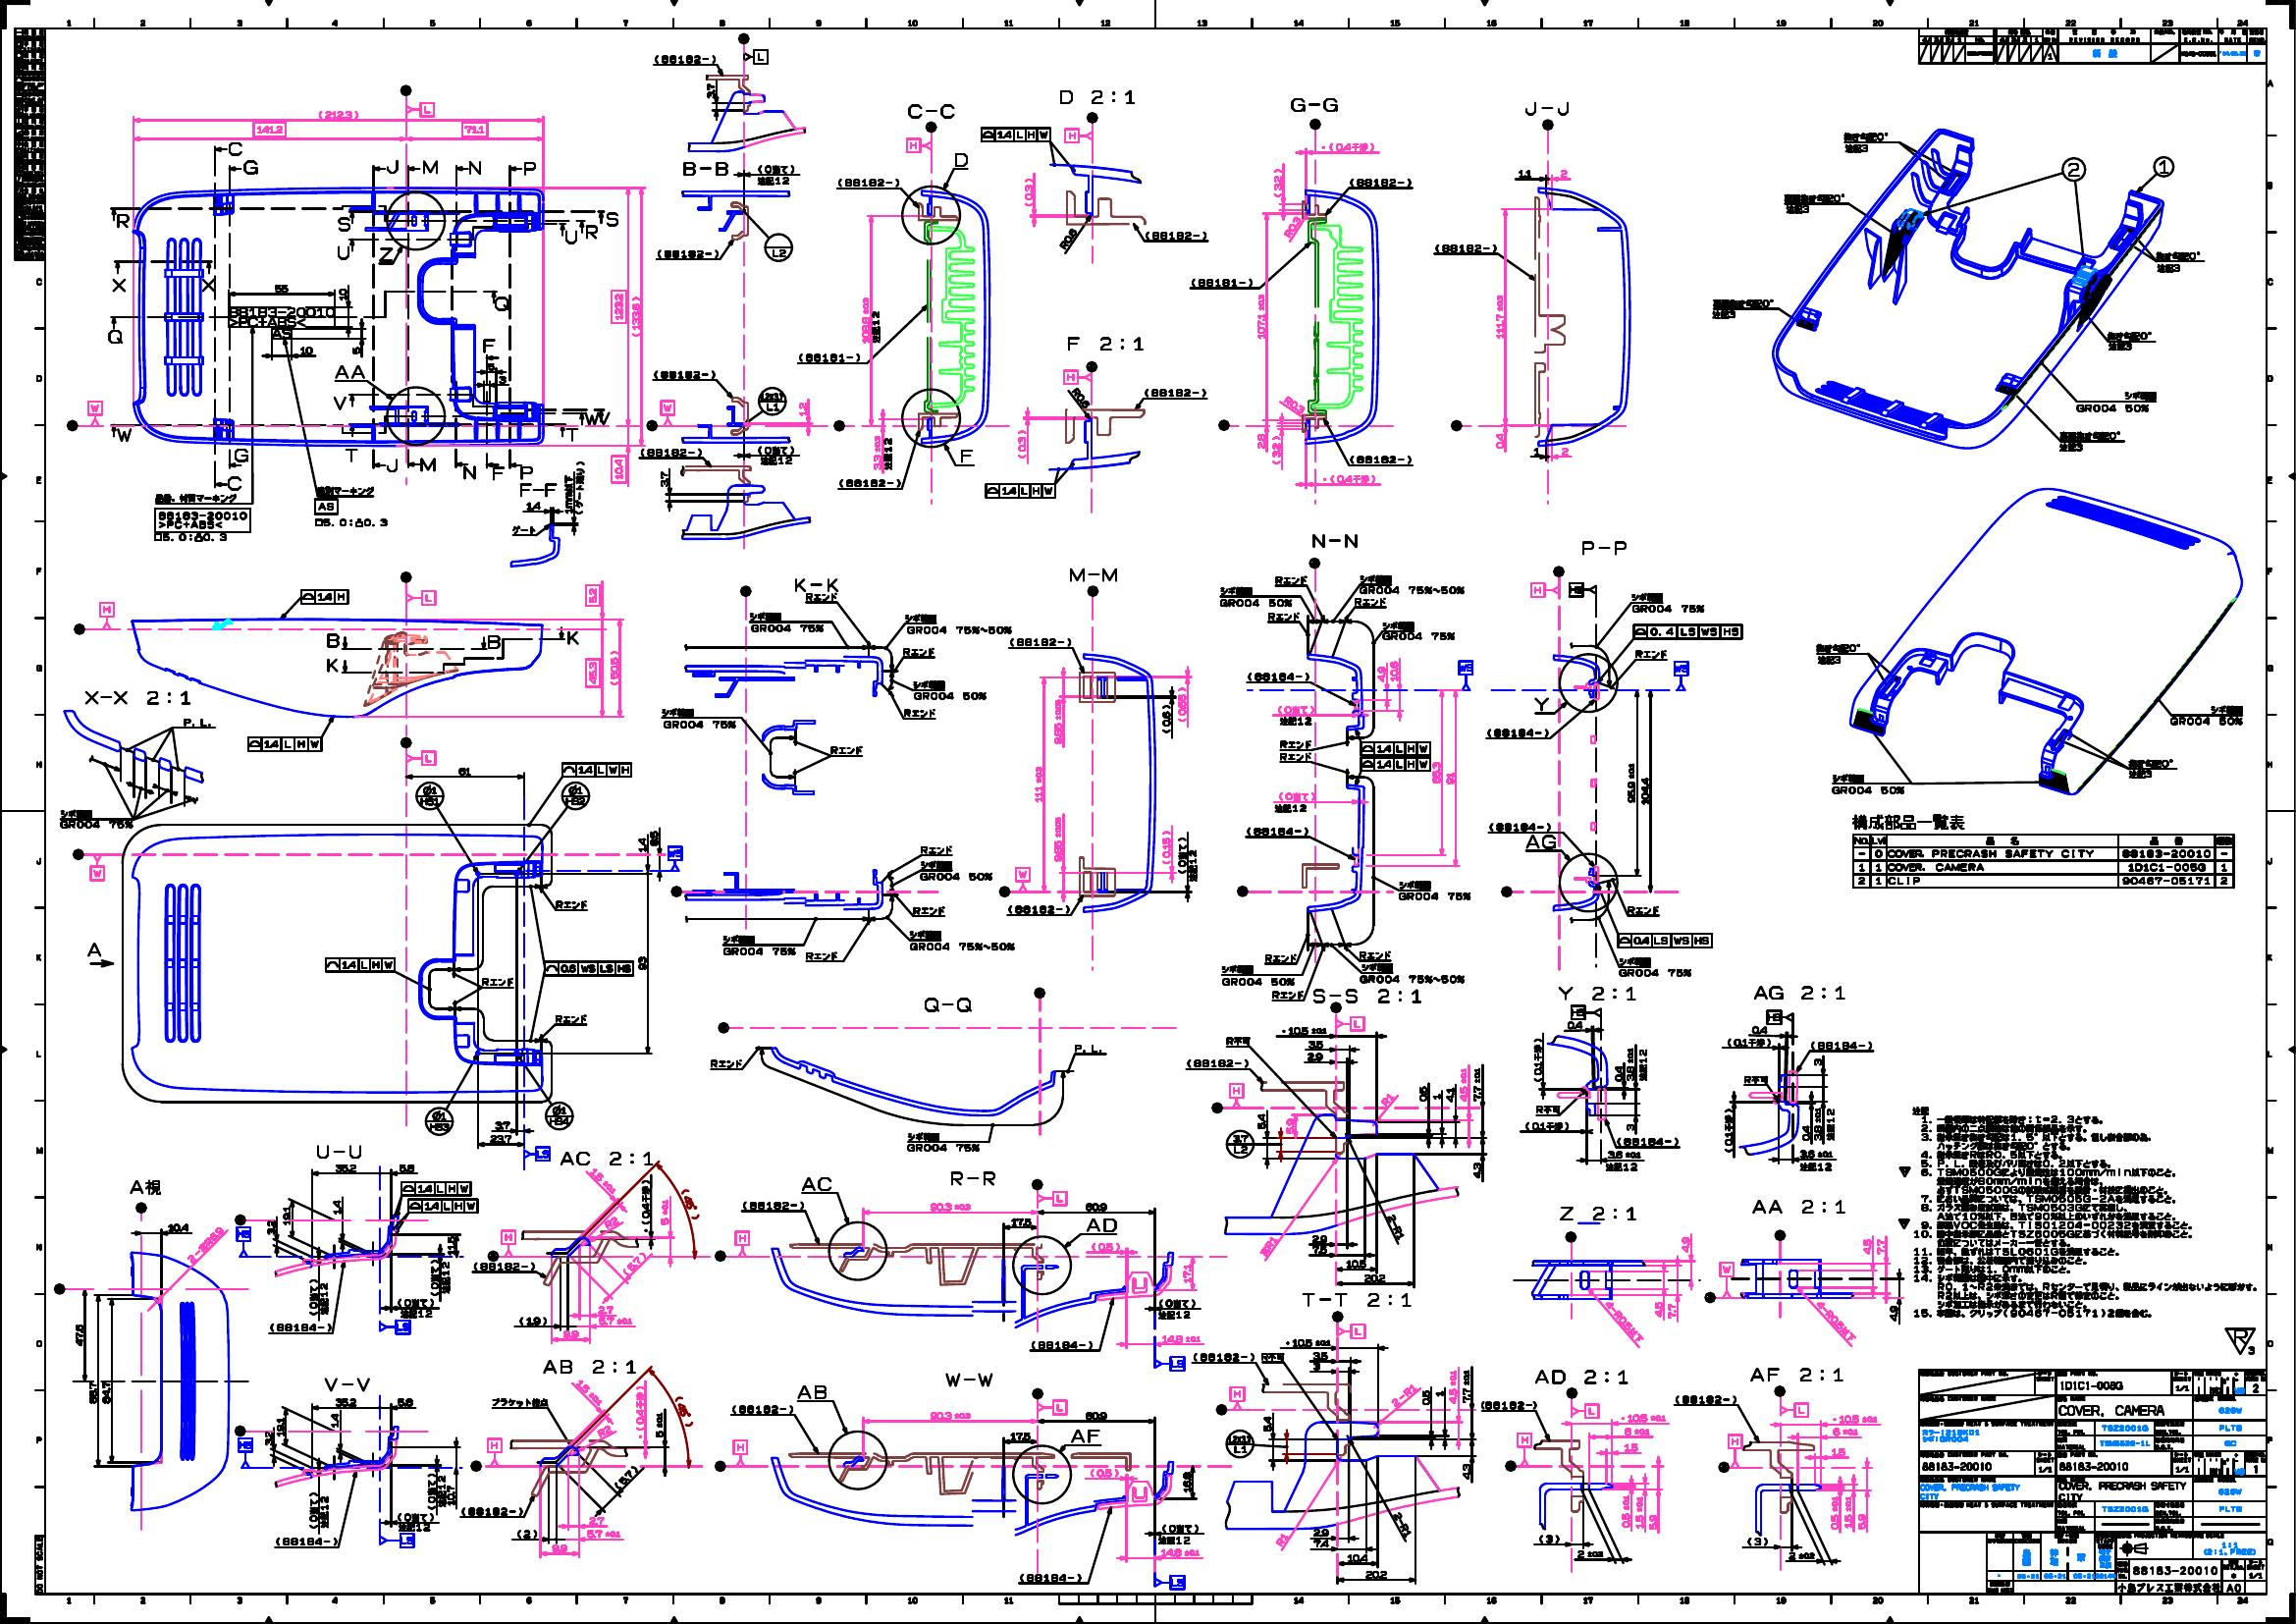anntotation_text: (1897, 1102, 2261, 1323), (1852, 814, 2235, 888), (153, 492, 251, 543), (314, 485, 388, 529), (1356, 573, 1465, 596), (908, 928, 1015, 951), (1360, 961, 1465, 984), (905, 613, 1012, 634), (1312, 984, 1421, 1004), (1830, 772, 1904, 798), (2075, 390, 2159, 413), (1750, 982, 1848, 1002), (83, 689, 190, 707), (720, 933, 796, 958), (1300, 1292, 1412, 1308), (661, 707, 736, 729), (2168, 705, 2243, 728), (1616, 932, 1713, 949), (557, 1149, 653, 1167), (1750, 1199, 1846, 1216), (919, 859, 993, 882), (1219, 585, 1293, 608), (1534, 1367, 1627, 1385), (1750, 1366, 1843, 1383), (1556, 982, 1639, 1002), (912, 680, 987, 701), (748, 612, 824, 633), (1397, 879, 1472, 900), (1221, 965, 1295, 986), (1630, 592, 1704, 613), (1381, 620, 1455, 642), (1632, 624, 1741, 638), (906, 1132, 978, 1153), (541, 1359, 636, 1374), (1558, 1204, 1635, 1223), (2057, 431, 2122, 453), (60, 808, 134, 828), (1618, 958, 1692, 977), (543, 960, 632, 975), (309, 1137, 369, 1160), (1058, 88, 1135, 105), (1713, 299, 1773, 320), (316, 1373, 376, 1394), (560, 759, 631, 777), (1066, 336, 1144, 352), (1783, 193, 1846, 213), (562, 459, 583, 515), (2152, 250, 2199, 274), (248, 735, 321, 750), (984, 483, 1056, 499), (1815, 642, 1860, 666), (1360, 756, 1430, 772), (325, 956, 395, 972), (1175, 835, 1198, 882), (1223, 1427, 1256, 1459), (2222, 1325, 2257, 1355), (406, 1199, 478, 1213), (1841, 132, 1888, 153), (2127, 759, 2175, 780), (1223, 1128, 1254, 1160), (980, 127, 1051, 141), (1360, 742, 1430, 756), (401, 1181, 471, 1195), (1274, 791, 1316, 814), (762, 232, 794, 262), (423, 1106, 455, 1135), (307, 1487, 329, 1531), (942, 1369, 994, 1387), (1275, 703, 1316, 726), (924, 995, 971, 1014), (1433, 241, 1498, 255), (1245, 668, 1310, 682), (905, 102, 956, 120), (560, 780, 590, 810), (545, 1100, 574, 1130), (757, 387, 787, 417), (1029, 1338, 1093, 1352), (413, 780, 444, 808), (1488, 819, 1551, 833), (1158, 1524, 1200, 1545), (2106, 330, 2152, 350), (755, 163, 794, 186), (307, 1278, 330, 1316), (1245, 824, 1307, 838), (680, 160, 729, 178), (397, 1297, 437, 1318), (1289, 97, 1337, 114), (792, 575, 840, 592), (1066, 566, 1119, 582), (1347, 453, 1414, 466), (1189, 276, 1256, 288), (1158, 1299, 1196, 1320), (425, 1471, 446, 1510), (299, 589, 350, 605), (1581, 540, 1627, 557), (267, 1322, 332, 1334), (272, 1534, 337, 1547), (1017, 1571, 1082, 1584), (836, 176, 899, 188), (1144, 385, 1207, 397), (1486, 726, 1549, 738), (639, 446, 703, 459), (460, 1504, 523, 1517), (1616, 1135, 1679, 1148), (33, 1533, 46, 1594), (653, 367, 715, 380), (949, 1171, 996, 1186), (1310, 533, 1358, 548), (757, 445, 796, 464), (397, 1510, 432, 1531), (430, 1258, 450, 1295), (1321, 473, 1377, 485), (838, 478, 903, 489), (1144, 230, 1209, 241), (1347, 178, 1412, 188), (1007, 905, 1072, 916), (1008, 636, 1073, 647), (128, 1176, 163, 1195), (639, 1179, 652, 1234), (741, 1200, 805, 1211), (798, 352, 861, 362), (657, 248, 720, 258), (473, 1260, 536, 1271), (1809, 1040, 1873, 1051), (2061, 156, 2085, 183), (653, 53, 715, 63), (1674, 1394, 1736, 1404), (1525, 100, 1570, 114), (490, 1397, 550, 1408), (733, 1403, 792, 1413), (1084, 1216, 1119, 1234), (1725, 1432, 1743, 1468), (1481, 1399, 1539, 1410), (518, 482, 557, 497), (1319, 142, 1375, 153), (636, 1385, 646, 1441), (1154, 1353, 1184, 1373), (1597, 1316, 1651, 1327), (1808, 1316, 1862, 1327), (1191, 1352, 1256, 1360), (379, 1533, 415, 1548), (1184, 1058, 1247, 1067), (1456, 659, 1474, 691), (1525, 1120, 1569, 1132), (799, 1176, 833, 1192), (237, 1436, 253, 1469), (1335, 1014, 1365, 1032), (2152, 155, 2175, 178), (1718, 1262, 1732, 1299), (1036, 1190, 1068, 1206), (1525, 835, 1556, 851), (798, 1383, 829, 1399), (1604, 1160, 1639, 1174), (1635, 1048, 1650, 1083), (406, 750, 436, 766), (406, 589, 436, 605), (1674, 661, 1690, 691), (1036, 1399, 1066, 1415), (378, 1320, 411, 1334), (1723, 1107, 1734, 1151), (1725, 1037, 1769, 1048), (1014, 865, 1031, 891), (98, 601, 114, 629), (1570, 1403, 1599, 1418), (1516, 1432, 1530, 1464), (1530, 582, 1558, 598), (487, 1438, 502, 1466), (501, 1229, 516, 1257), (733, 1439, 748, 1468), (1072, 1427, 1100, 1443), (1780, 1401, 1808, 1417), (906, 137, 931, 155), (829, 743, 864, 756), (553, 898, 588, 910), (1534, 1035, 1542, 1084), (1063, 369, 1093, 383), (237, 1227, 251, 1257), (1154, 1575, 1184, 1589), (1570, 1004, 1600, 1018), (1765, 1009, 1792, 1025), (708, 1056, 741, 1069), (1274, 575, 1307, 587), (406, 102, 434, 116), (90, 852, 104, 881), (1569, 584, 1597, 598), (88, 401, 104, 425), (871, 309, 882, 344), (1065, 128, 1091, 142), (912, 905, 947, 916), (803, 951, 838, 961), (668, 845, 682, 872), (523, 1146, 550, 1160), (1625, 905, 1660, 916), (661, 399, 675, 425), (1825, 1107, 1836, 1142), (1230, 1083, 1244, 1109), (882, 438, 892, 471), (919, 844, 952, 854), (1279, 740, 1312, 750), (1634, 649, 1667, 659), (1267, 610, 1300, 620), (1337, 1325, 1365, 1338), (950, 153, 970, 170), (383, 160, 402, 178), (564, 425, 581, 445), (383, 459, 402, 476), (1230, 1388, 1245, 1410), (555, 1014, 587, 1025), (1265, 953, 1296, 963), (1073, 1042, 1105, 1053), (736, 1230, 748, 1257), (743, 49, 766, 63), (181, 717, 211, 728), (1354, 596, 1384, 606), (227, 139, 244, 156), (114, 213, 132, 230), (111, 278, 128, 295), (114, 427, 132, 445), (901, 647, 936, 656), (562, 629, 580, 647), (485, 633, 502, 650), (480, 977, 515, 986), (199, 274, 216, 292), (336, 244, 353, 262), (336, 364, 353, 381), (480, 337, 497, 355), (423, 158, 441, 176), (466, 158, 483, 176), (520, 160, 538, 178), (604, 209, 622, 227), (564, 228, 581, 246), (583, 223, 601, 241), (596, 410, 613, 427), (581, 411, 599, 429), (516, 464, 534, 482), (490, 466, 508, 483), (460, 466, 478, 483), (420, 457, 437, 475), (232, 446, 249, 464), (1279, 752, 1312, 761), (1270, 990, 1303, 998), (1358, 951, 1391, 960), (1799, 1162, 1832, 1171), (244, 160, 260, 178), (107, 329, 123, 346), (903, 708, 935, 717), (805, 592, 836, 601), (325, 631, 341, 649), (323, 656, 339, 673), (227, 475, 244, 490), (1534, 696, 1549, 714), (336, 216, 353, 232), (492, 295, 508, 313), (378, 246, 393, 264), (332, 395, 348, 413), (344, 448, 360, 466), (1534, 1104, 1560, 1114), (1224, 1035, 1251, 1046), (1743, 1074, 1767, 1084), (232, 1211, 248, 1227), (86, 942, 102, 958), (1307, 555, 1323, 571), (1258, 1352, 1284, 1360), (959, 448, 973, 464), (132, 1200, 148, 1214), (717, 1019, 731, 1035), (511, 524, 536, 533), (1214, 1403, 1228, 1417), (1330, 1308, 1344, 1322), (669, 884, 683, 898), (469, 1459, 483, 1473), (1033, 986, 1047, 1000), (1084, 111, 1098, 123), (1217, 418, 1230, 432), (1541, 120, 1555, 132), (399, 569, 411, 584), (1563, 1230, 1578, 1243), (1565, 1385, 1578, 1399), (1551, 564, 1565, 576), (736, 32, 750, 44), (713, 1461, 726, 1475), (1716, 1461, 1730, 1473), (1704, 1290, 1716, 1304), (1773, 1227, 1785, 1241), (1031, 1178, 1043, 1190), (833, 418, 845, 431), (926, 121, 938, 134), (1309, 118, 1321, 130), (998, 884, 1010, 896), (740, 585, 752, 598), (399, 736, 411, 749), (72, 622, 84, 634), (1237, 886, 1249, 898), (1500, 884, 1513, 896), (234, 1424, 246, 1436), (487, 1250, 499, 1262), (715, 1250, 727, 1262), (1031, 1387, 1043, 1399), (1210, 1102, 1223, 1114), (1330, 1002, 1342, 1014), (399, 84, 411, 95), (1449, 420, 1462, 431), (72, 847, 83, 859), (1504, 1461, 1516, 1471), (645, 420, 657, 431), (65, 420, 77, 431), (54, 1283, 65, 1295), (1087, 584, 1098, 596), (1774, 1385, 1785, 1396), (1086, 362, 1098, 371)
dimension_text: (859, 295, 871, 344), (253, 121, 286, 137), (611, 290, 627, 323), (583, 657, 601, 687), (181, 1239, 230, 1250), (929, 1410, 971, 1422), (1620, 1413, 1667, 1424), (1256, 292, 1267, 339), (1281, 1025, 1326, 1035), (1493, 294, 1504, 339), (462, 120, 487, 139), (316, 109, 360, 120), (1832, 1413, 1876, 1424), (929, 1200, 973, 1211), (583, 1527, 620, 1540), (1175, 685, 1188, 722), (631, 295, 641, 337), (678, 1394, 690, 1429), (1460, 1369, 1472, 1404), (1054, 696, 1063, 745), (1054, 816, 1063, 865), (1159, 1547, 1200, 1557), (1284, 1338, 1332, 1346), (611, 455, 627, 482), (683, 1186, 696, 1220), (516, 1313, 550, 1325), (1634, 1496, 1646, 1529), (583, 1176, 622, 1186), (871, 434, 882, 471), (571, 1387, 606, 1397), (1159, 1334, 1202, 1343), (1448, 1369, 1458, 1404), (1458, 1067, 1469, 1102), (610, 650, 620, 685), (1576, 1547, 1606, 1559), (1390, 1388, 1419, 1401), (585, 584, 601, 606), (1625, 1048, 1635, 1081), (611, 1471, 639, 1483), (1627, 763, 1635, 801), (1843, 1496, 1853, 1527), (1089, 1468, 1121, 1478), (1161, 828, 1170, 865), (1282, 399, 1309, 411), (1161, 705, 1172, 735), (597, 1316, 632, 1325), (1621, 1494, 1630, 1529), (1472, 1067, 1481, 1102), (1606, 1149, 1641, 1158), (1033, 766, 1042, 801), (98, 1380, 111, 1404), (1621, 1425, 1650, 1436), (1830, 1425, 1859, 1436), (1830, 1496, 1839, 1529), (1813, 1107, 1822, 1141), (1799, 1149, 1832, 1158), (1089, 1241, 1121, 1250), (1388, 1519, 1414, 1529), (1363, 1570, 1390, 1580), (1383, 1222, 1409, 1232), (1279, 223, 1305, 234), (1272, 434, 1281, 466), (1641, 777, 1650, 807), (1272, 169, 1281, 199), (1017, 429, 1026, 459), (274, 1417, 286, 1438), (515, 1527, 539, 1538), (1363, 1272, 1388, 1283), (1084, 1410, 1108, 1420), (1390, 659, 1400, 684), (620, 1260, 648, 1269), (655, 1411, 664, 1439), (1054, 236, 1082, 244), (1024, 178, 1033, 206), (488, 1134, 511, 1144), (281, 1204, 292, 1227), (334, 1397, 357, 1408), (1084, 1200, 1107, 1211), (1746, 1536, 1769, 1547), (1258, 1241, 1281, 1251), (1182, 1469, 1193, 1492), (1008, 1431, 1031, 1441), (88, 1380, 97, 1406), (661, 1199, 669, 1225), (1788, 1552, 1815, 1561), (336, 1162, 357, 1172), (548, 1543, 569, 1554), (1182, 1262, 1193, 1283), (1346, 1258, 1367, 1269), (74, 1322, 83, 1346), (1346, 1554, 1370, 1562), (1068, 394, 1093, 402), (169, 1222, 188, 1232), (603, 1216, 622, 1227), (1653, 1299, 1664, 1318), (1857, 1512, 1867, 1531), (1472, 1160, 1483, 1179), (446, 1483, 455, 1506), (1432, 761, 1440, 784), (397, 1396, 413, 1408), (1444, 1086, 1456, 1102), (299, 344, 314, 357), (648, 830, 659, 847), (494, 1120, 511, 1130), (397, 1162, 415, 1172), (264, 1429, 274, 1446), (596, 1425, 613, 1436), (1462, 1462, 1472, 1480), (1888, 1304, 1899, 1322), (1862, 1237, 1873, 1255), (1539, 1534, 1560, 1543), (1829, 1446, 1846, 1457), (1379, 1093, 1397, 1104), (1310, 1244, 1328, 1255), (1256, 1113, 1267, 1130), (1284, 1116, 1295, 1134), (1305, 1051, 1323, 1062), (1307, 1039, 1325, 1049), (1418, 1084, 1428, 1102), (1613, 1065, 1623, 1083), (1010, 1216, 1031, 1225), (1375, 664, 1386, 682), (1493, 432, 1504, 450), (1256, 432, 1267, 450), (272, 283, 290, 294), (446, 1236, 455, 1255), (1876, 1237, 1885, 1257), (1681, 1234, 1690, 1253), (265, 1220, 276, 1236), (329, 1411, 339, 1427), (588, 1515, 604, 1526), (1665, 1302, 1676, 1318), (1623, 1441, 1639, 1452), (1312, 1350, 1328, 1360), (1274, 1534, 1289, 1545), (1310, 1234, 1326, 1244), (1751, 1025, 1767, 1035), (1516, 169, 1532, 179), (704, 83, 715, 98), (798, 401, 808, 417), (337, 286, 348, 302), (562, 1329, 580, 1338), (1312, 1538, 1330, 1547), (1648, 1513, 1657, 1531), (1263, 1415, 1272, 1432), (1801, 1125, 1809, 1142), (1565, 1019, 1583, 1028), (659, 469, 668, 487), (457, 766, 471, 777), (638, 837, 646, 852), (332, 1200, 341, 1216), (597, 1304, 613, 1313), (1312, 1527, 1328, 1536), (1421, 1388, 1430, 1404), (638, 956, 646, 970), (1446, 772, 1455, 786), (527, 501, 541, 510), (1433, 1388, 1444, 1399), (350, 344, 360, 355), (1560, 169, 1569, 179), (497, 374, 506, 385), (1312, 1362, 1321, 1371), (1432, 1091, 1440, 1100), (1813, 1058, 1822, 1067), (1625, 1123, 1634, 1132), (1560, 446, 1569, 455), (487, 362, 495, 371), (1532, 448, 1541, 455)
object: (1769, 123, 2164, 453), (1848, 485, 2247, 796), (118, 821, 555, 1104), (128, 181, 546, 450), (682, 70, 812, 543), (682, 642, 896, 921), (128, 615, 543, 719), (1224, 1079, 1460, 1237), (766, 1239, 1175, 1329), (769, 1450, 1175, 1538), (1219, 1383, 1460, 1531), (128, 1250, 232, 1512), (1532, 183, 1632, 448), (1063, 160, 1145, 471), (754, 1044, 1065, 1127), (1305, 617, 1379, 947), (1077, 649, 1158, 914), (1298, 186, 1379, 441), (915, 186, 993, 445), (1551, 642, 1609, 923), (63, 708, 204, 782), (274, 1424, 401, 1489), (274, 1213, 401, 1276), (1741, 1441, 1822, 1538), (1532, 1438, 1611, 1536), (508, 1438, 629, 1496), (520, 1229, 639, 1287), (1544, 1033, 1609, 1123), (1739, 1069, 1802, 1155), (1530, 1258, 1646, 1302), (1737, 1258, 1855, 1301)
title_block: (1918, 1366, 2268, 1596), (1917, 26, 2266, 63), (12, 26, 46, 262)
